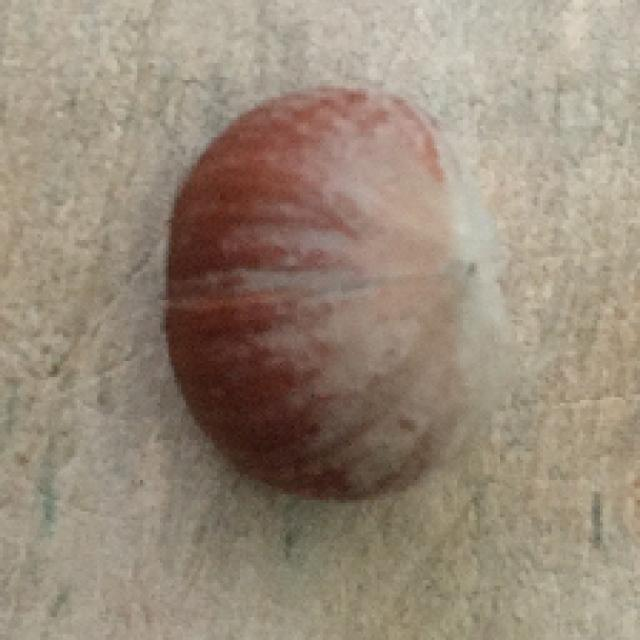qualityHazelnut: (154, 62, 523, 513)
